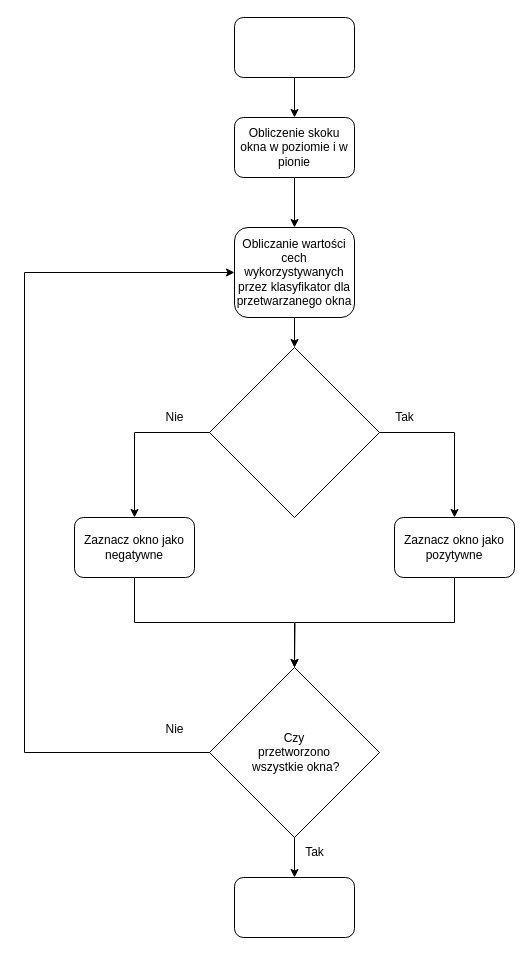
Some shapes in this 532 by 955 pixel diagram are drawn without their labels. The shapes that lost their labels are listed below. From the top down, each one's centre as x and y in pixels, then its label:
At (x=294, y=47): "Detekcja dla jednej skali".
At (x=294, y=432): "Czy odpowiedź klasyfikatora jest większa od zadanego progu?".
At (x=294, y=907): "Zwróć wszystkie okna pozytywne".
